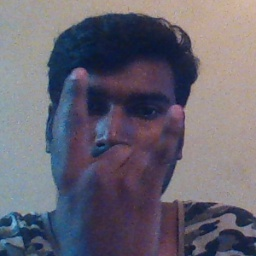V: (45, 64, 189, 256)
